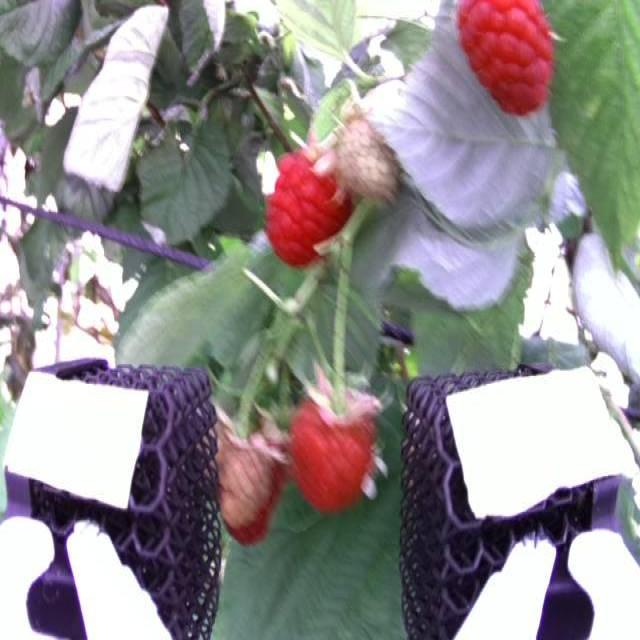Riped berries: (458, 0, 563, 123), (293, 386, 380, 516), (265, 143, 354, 265)
